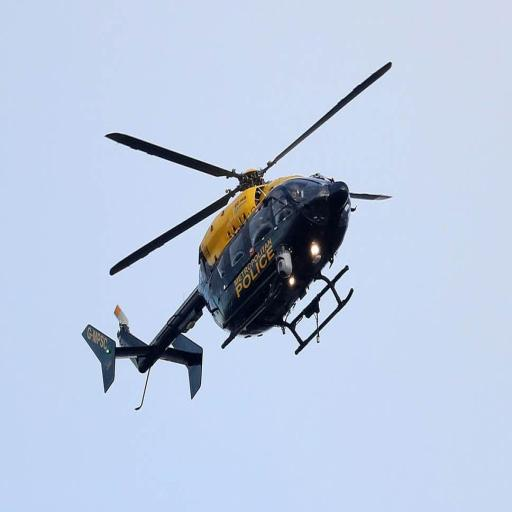helicopter: (82, 52, 397, 418)
